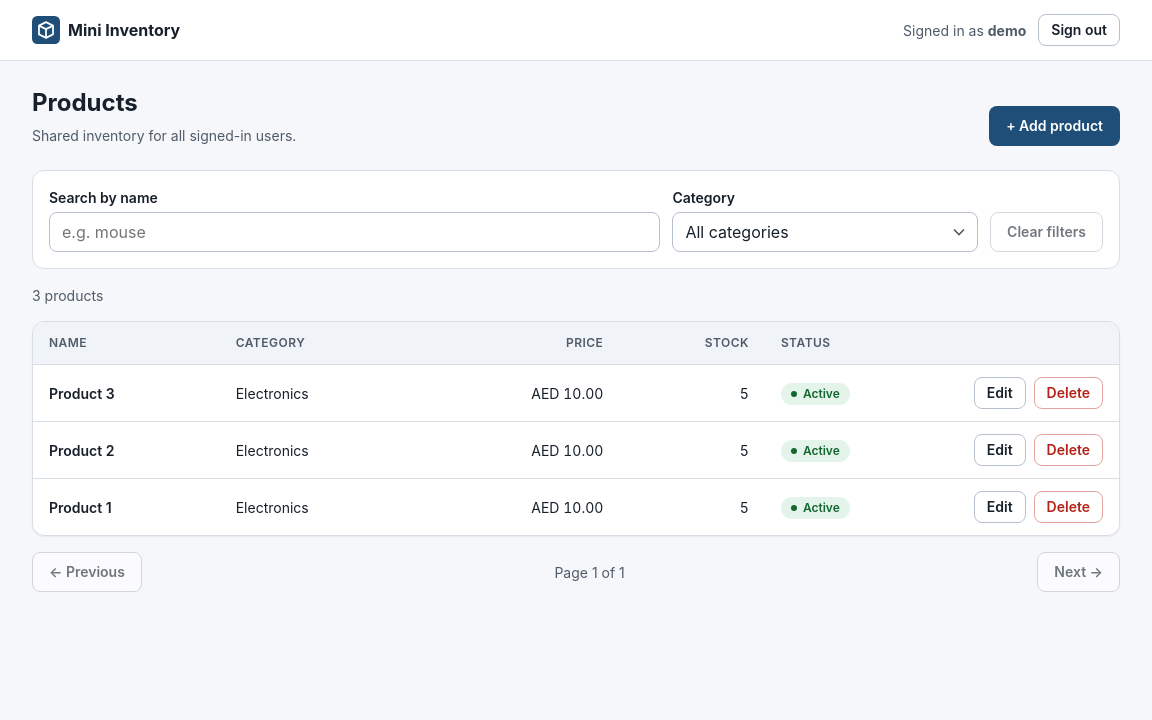
Test case: protected routes › on a 401 from a protected request, clears auth and cache and returns to login
This screenshot has width=1152, height=720.
Expected: the text "Product 3" is shown, [33, 365, 220, 422]
Click the link with aria-label "Edit Product 3": coordinates (1000, 393) [974, 377, 1026, 409]
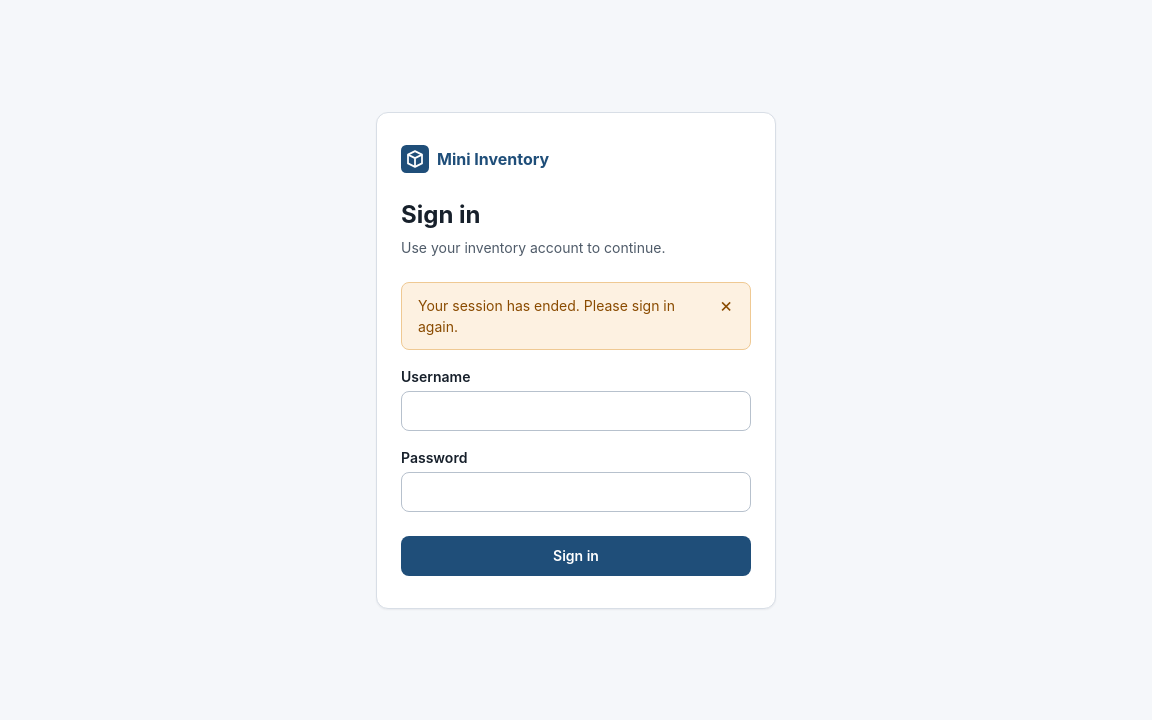
Expected: the heading "Sign in" is shown, [401, 200, 480, 228]
Expected: the text "Your session has ended. Please sign in again." is shown, [418, 294, 698, 336]
